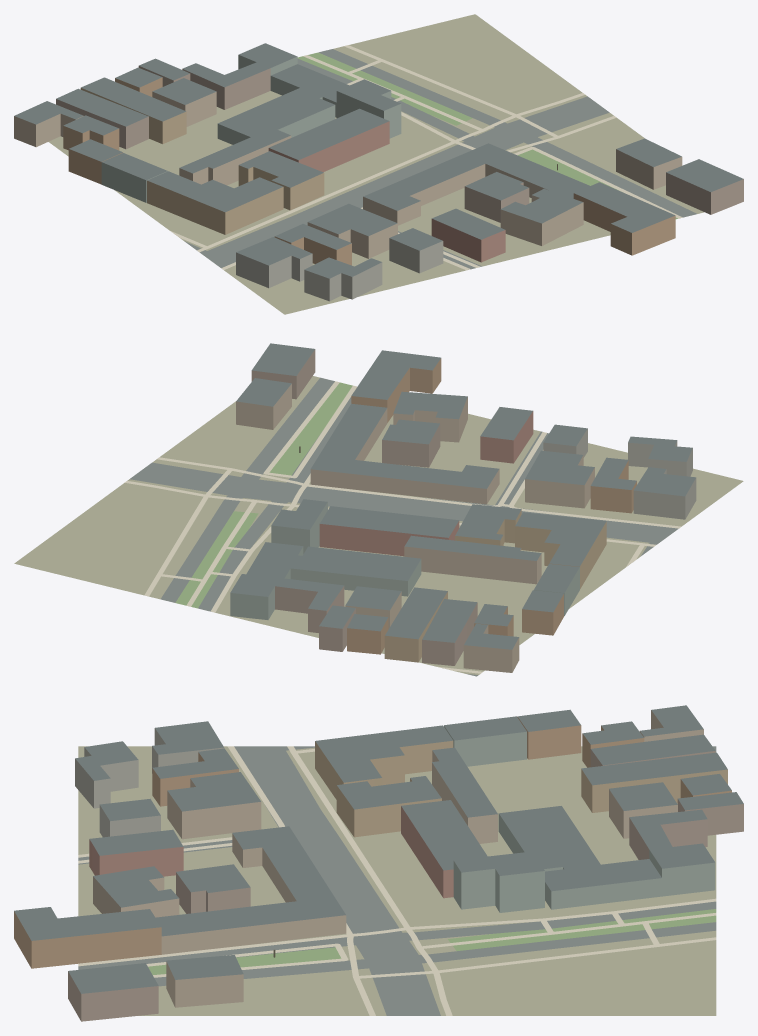
File: sector--2_-6.glb
3 views of the same model, one above another, from view 1: azimuth 30°, elevation 25°; view 2: azimuth 150°, elevation 25°; view 3: azimuth 270°, elevation 25° (orthographic). The views are drawn at different scales.
Visible parts, largest first — view 1: -2:-6-roof, -2:-6-facade, -2:-6-ground, -2:-6-road, -2:-6-paving, -2:-6-park; view 2: -2:-6-roof, -2:-6-facade, -2:-6-ground, -2:-6-road, -2:-6-paving, -2:-6-park; view 3: -2:-6-roof, -2:-6-facade, -2:-6-ground, -2:-6-road, -2:-6-paving, -2:-6-park.
Boxes of the visible parts, left/top/right/bottom form: -2:-6-roof: left=14, top=43, right=743, bottom=278; -2:-6-facade: left=14, top=55, right=743, bottom=301; -2:-6-ground: left=48, top=14, right=704, bottom=314; -2:-6-road: left=184, top=49, right=696, bottom=269; -2:-6-paving: left=171, top=45, right=682, bottom=270; -2:-6-park: left=297, top=52, right=677, bottom=219; -2:-6-roof: left=230, top=343, right=695, bottom=649; -2:-6-facade: left=230, top=349, right=696, bottom=672; -2:-6-ground: left=14, top=376, right=743, bottom=674; -2:-6-road: left=129, top=377, right=678, bottom=676; -2:-6-paving: left=124, top=381, right=680, bottom=673; -2:-6-park: left=175, top=382, right=352, bottom=608; -2:-6-roof: left=14, top=705, right=743, bottom=993; -2:-6-facade: left=14, top=710, right=743, bottom=1021; -2:-6-ground: left=78, top=746, right=716, bottom=1015; -2:-6-road: left=78, top=746, right=716, bottom=1015; -2:-6-paving: left=78, top=746, right=716, bottom=1015; -2:-6-park: left=148, top=909, right=716, bottom=974.
Size of the model in its own units: 214 by 12.8 by 229.
